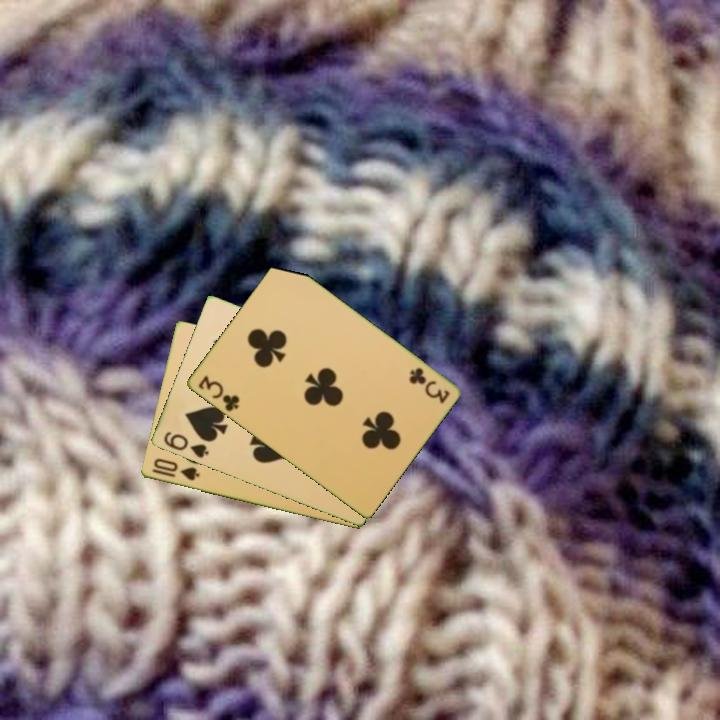10s: (148, 455, 202, 484)
3c: (194, 372, 242, 415), (405, 364, 452, 407)
6s: (160, 428, 211, 461)
